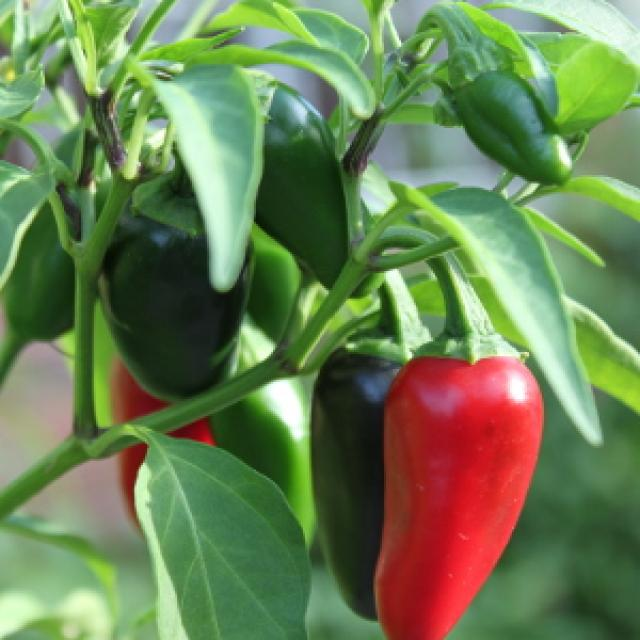aji: (399, 350, 568, 634), (121, 182, 253, 374), (318, 342, 409, 588)
